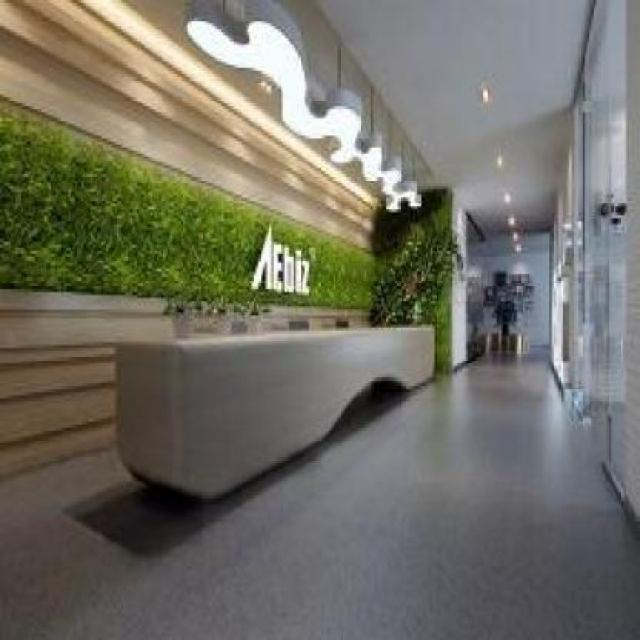frontdesk: (108, 303, 440, 509)
